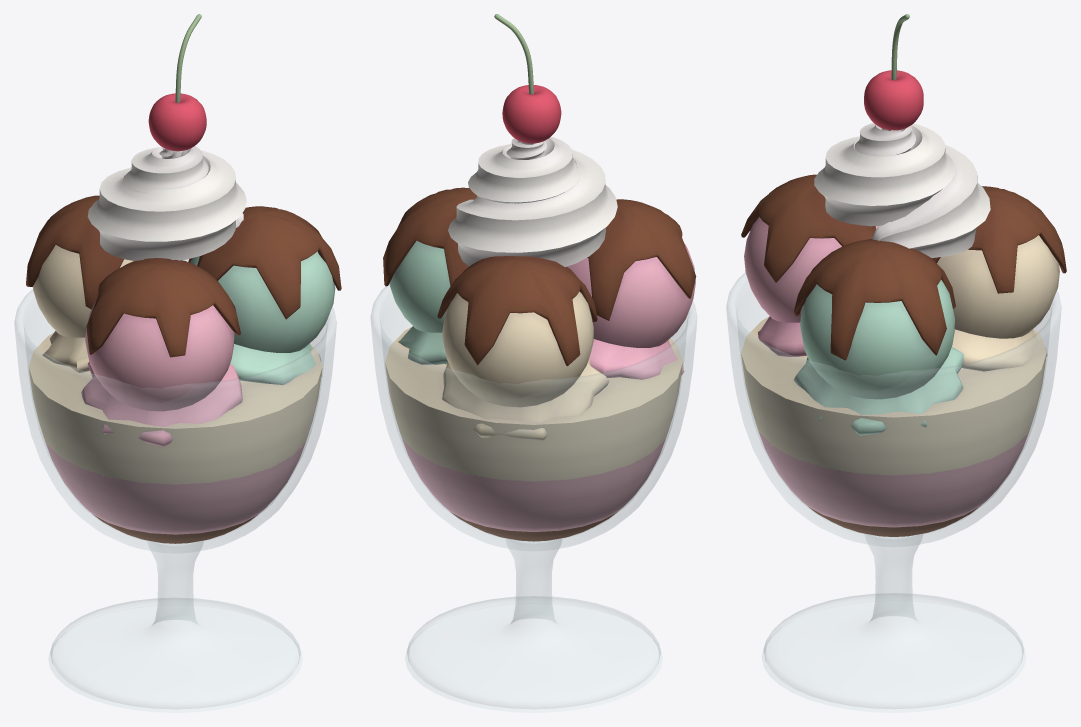
Rendered from ice-cream-sundae.glb.
3 renders of one model, left to right at view 1: azimuth 30°, elevation 25°; view 2: azimuth 150°, elevation 25°; view 3: azimuth 270°, elevation 25°, orthographic. The views are drawn at different scales.
Parts seen in each view (by area): view 1: ice-cream-sundae_body, ice-cream-sundae_glass_cup; view 2: ice-cream-sundae_body, ice-cream-sundae_glass_cup; view 3: ice-cream-sundae_body, ice-cream-sundae_glass_cup.
Part boxes in pixels (box(x1,y1,x2,y2)): ice-cream-sundae_body: box(26, 14, 341, 543); ice-cream-sundae_glass_cup: box(14, 259, 336, 712); ice-cream-sundae_body: box(383, 14, 696, 541); ice-cream-sundae_glass_cup: box(370, 285, 697, 712); ice-cream-sundae_body: box(741, 14, 1066, 536); ice-cream-sundae_glass_cup: box(726, 273, 1061, 712).
Size of the model in its own units: 0.1065 by 0.229 by 0.1072.
2 materials, 1 textured.
